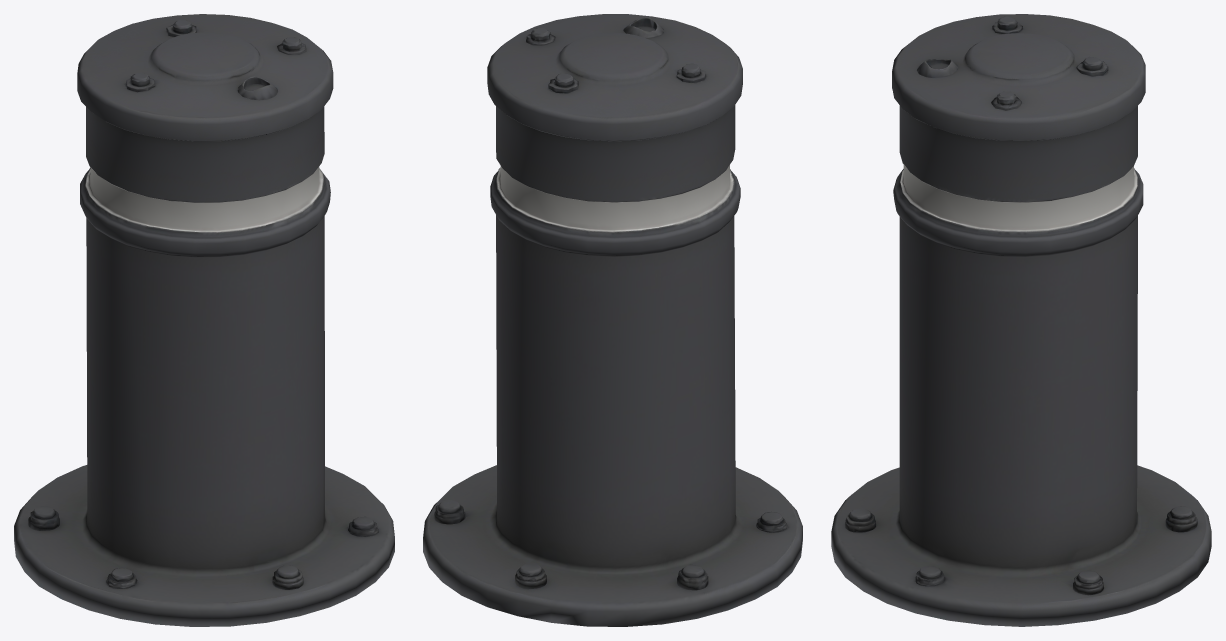
The model's file is bollard.glb.
3 renders of one model, left to right at view 1: azimuth 30°, elevation 25°; view 2: azimuth 150°, elevation 25°; view 3: azimuth 270°, elevation 25°, orthographic.
Parts seen in each view (by area): view 1: tripo_node_2d92a584-7d77-486c-a456-a476c3022e78; view 2: tripo_node_2d92a584-7d77-486c-a456-a476c3022e78; view 3: tripo_node_2d92a584-7d77-486c-a456-a476c3022e78.
Part boxes in pixels (<box>): tripo_node_2d92a584-7d77-486c-a456-a476c3022e78: <box>14,14,394,626</box>; tripo_node_2d92a584-7d77-486c-a456-a476c3022e78: <box>423,14,802,626</box>; tripo_node_2d92a584-7d77-486c-a456-a476c3022e78: <box>831,14,1211,626</box>.
Bounding box in the file's own units: 0.489 × 0.7 × 0.489.
Materials: 1 (1 with a texture image).
